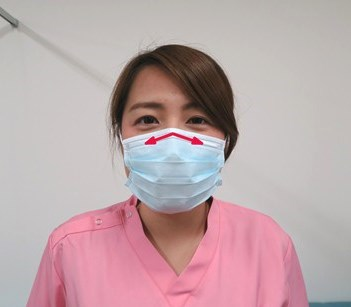mask: (119, 135, 227, 211)
